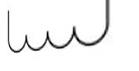inductor: (2, 0, 111, 53)
